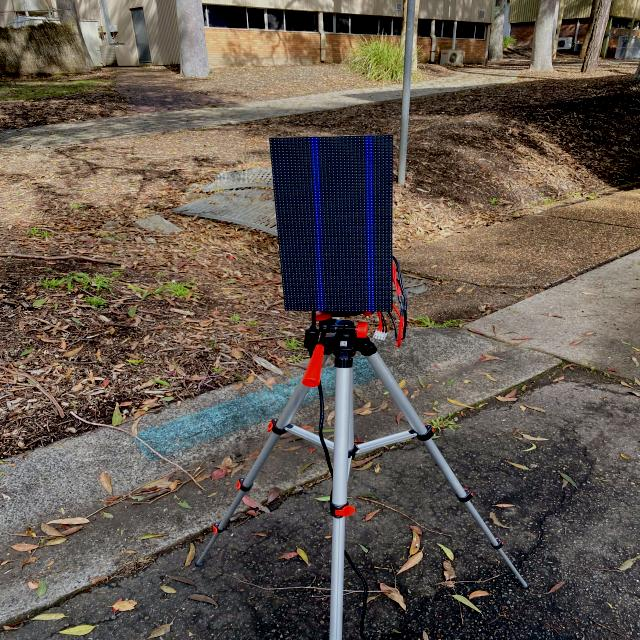matrix: (264, 131, 402, 315)
